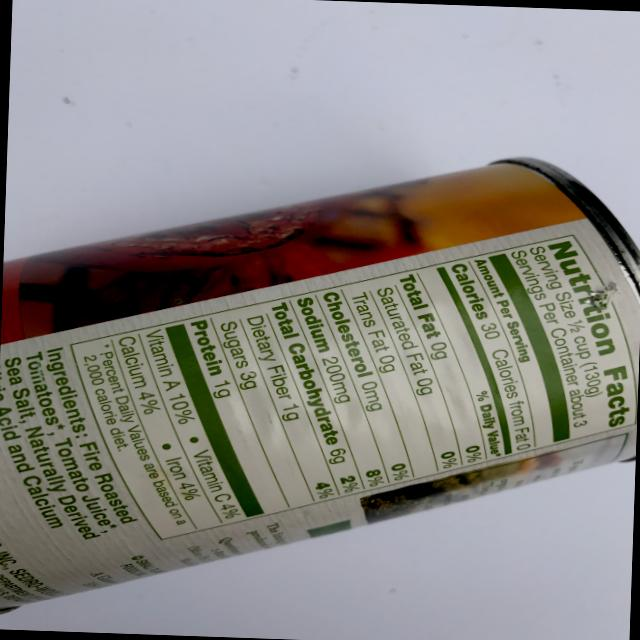Metal: (0, 126, 640, 640)
